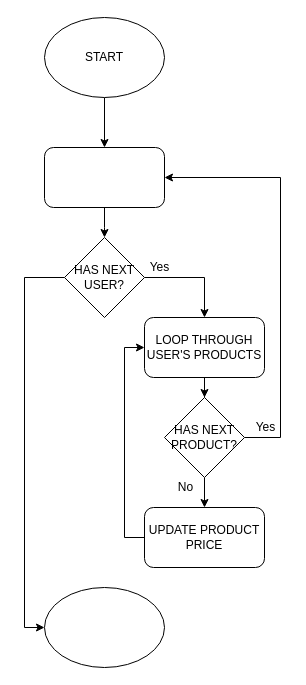
Some shapes in this 306 by 685 pixel diagram are drawn without their labels. Here are the shapes that lost their labels. From the top down, the centre of each, then its label:
the point at 104,177: LOOP THROUGH USER LIST
the point at 104,627: END
